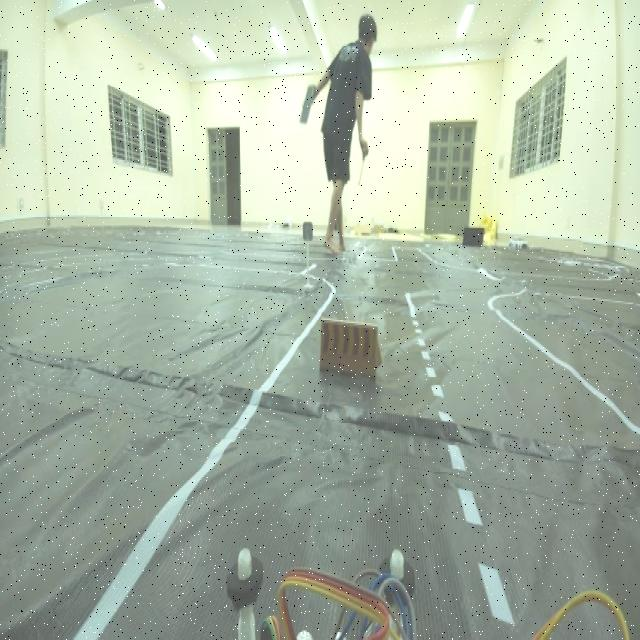roadblock: (310, 294, 392, 406)
